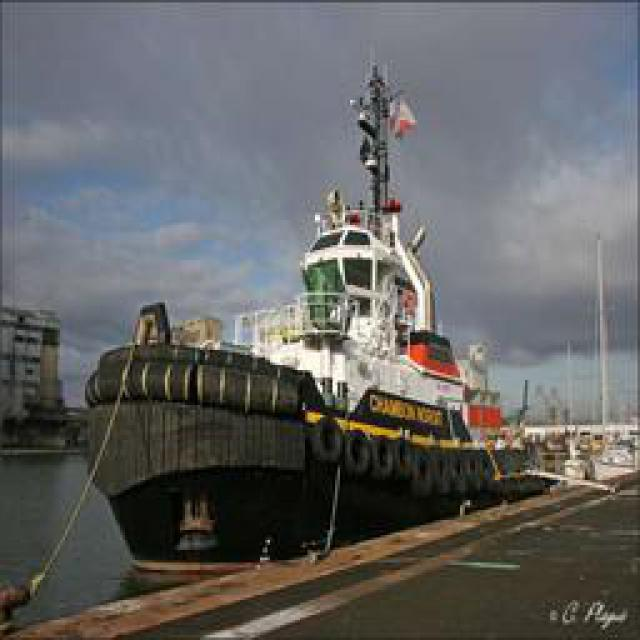Ship: (97, 47, 560, 545)
